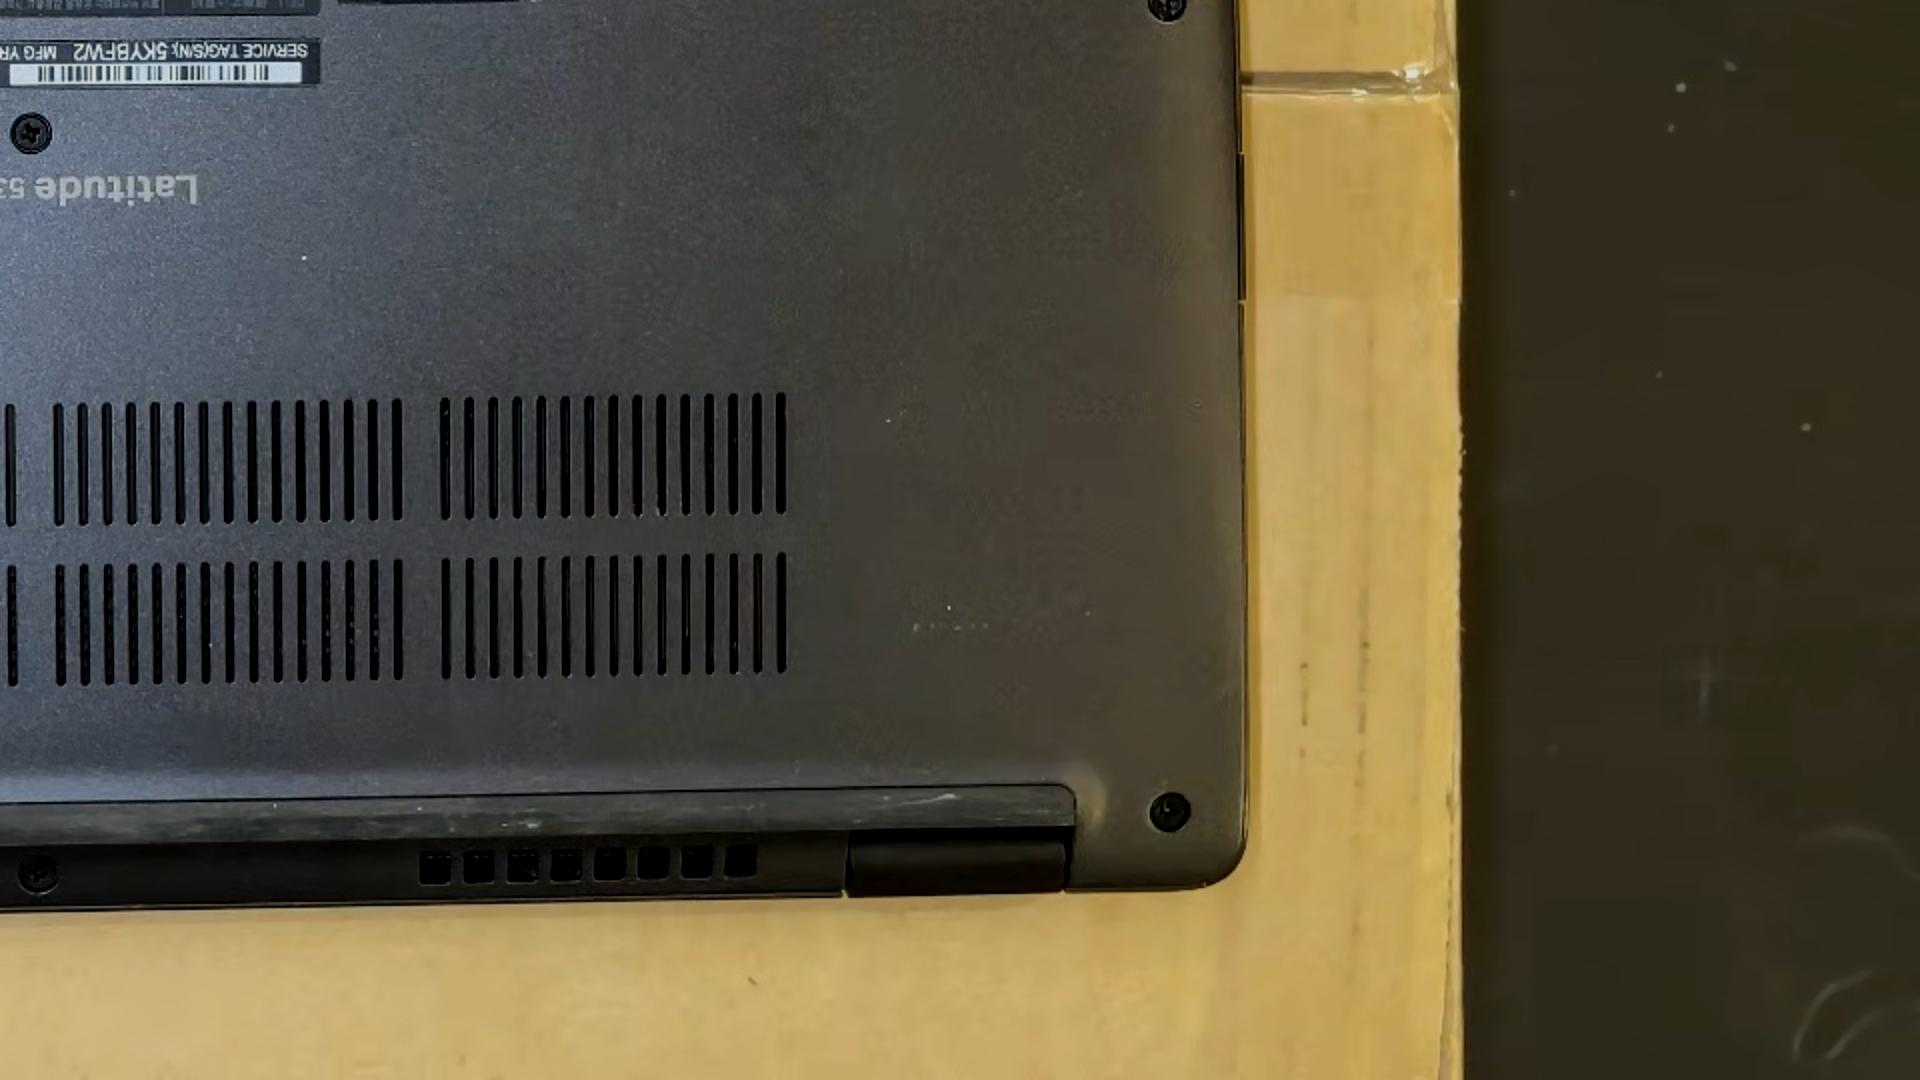chip: (524, 819, 541, 829), (299, 253, 309, 264), (944, 603, 953, 612), (885, 417, 891, 425), (272, 802, 278, 810), (415, 806, 423, 811)
scratches: (895, 793, 957, 808), (913, 620, 994, 632), (501, 823, 509, 827)
